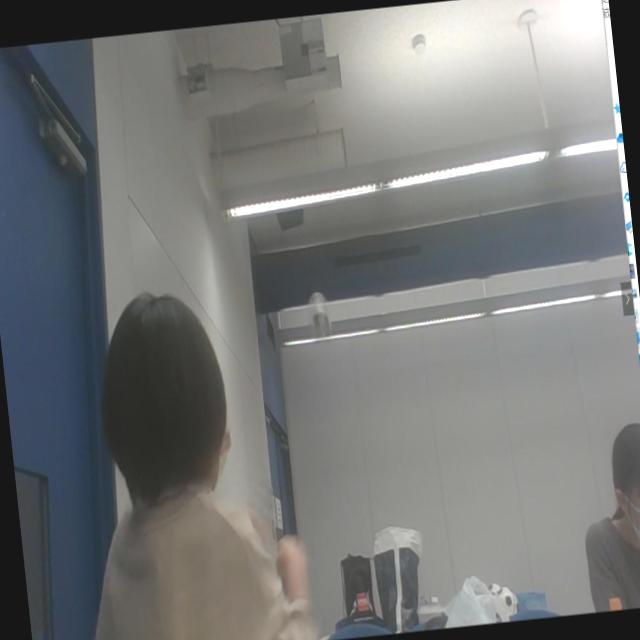Soccer Ball: (311, 307, 329, 338)
